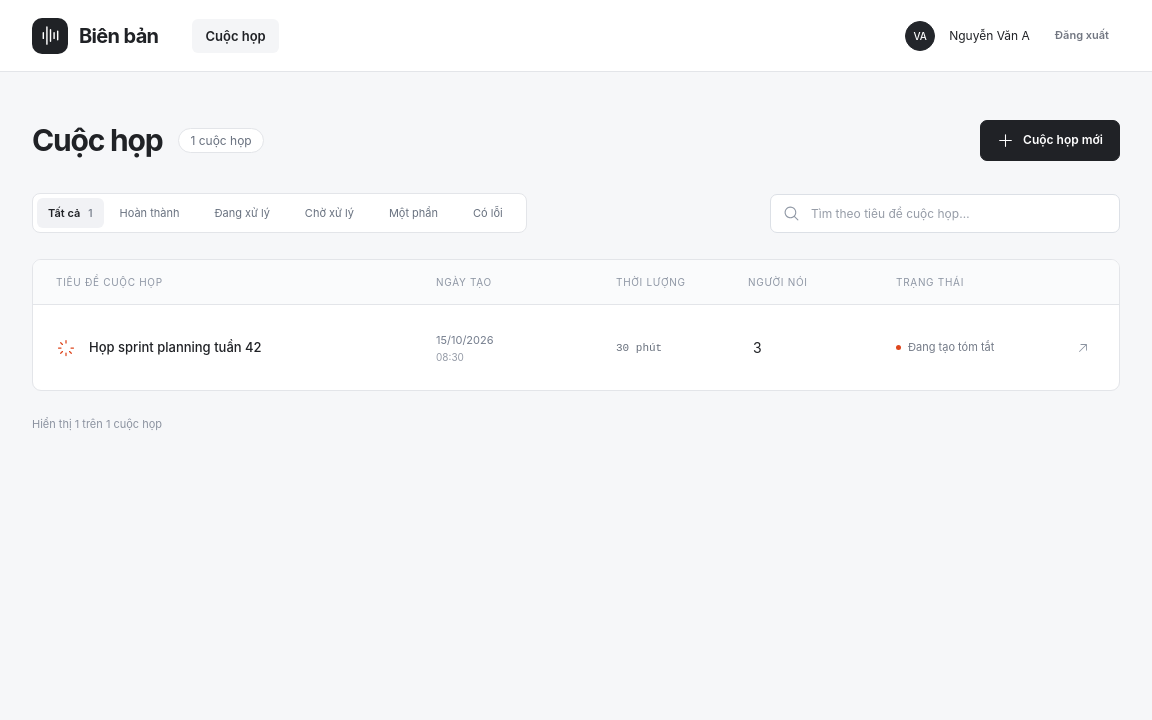
Test: FE-04 meeting list › filters by status from the API
The image size is (1152, 720).
Expected: the text "Họp sprint planning tuần 42" is shown, [89,336,262,359]
Click the button "Có lỗi". click: (492, 213)
box: [462,198,522,228]
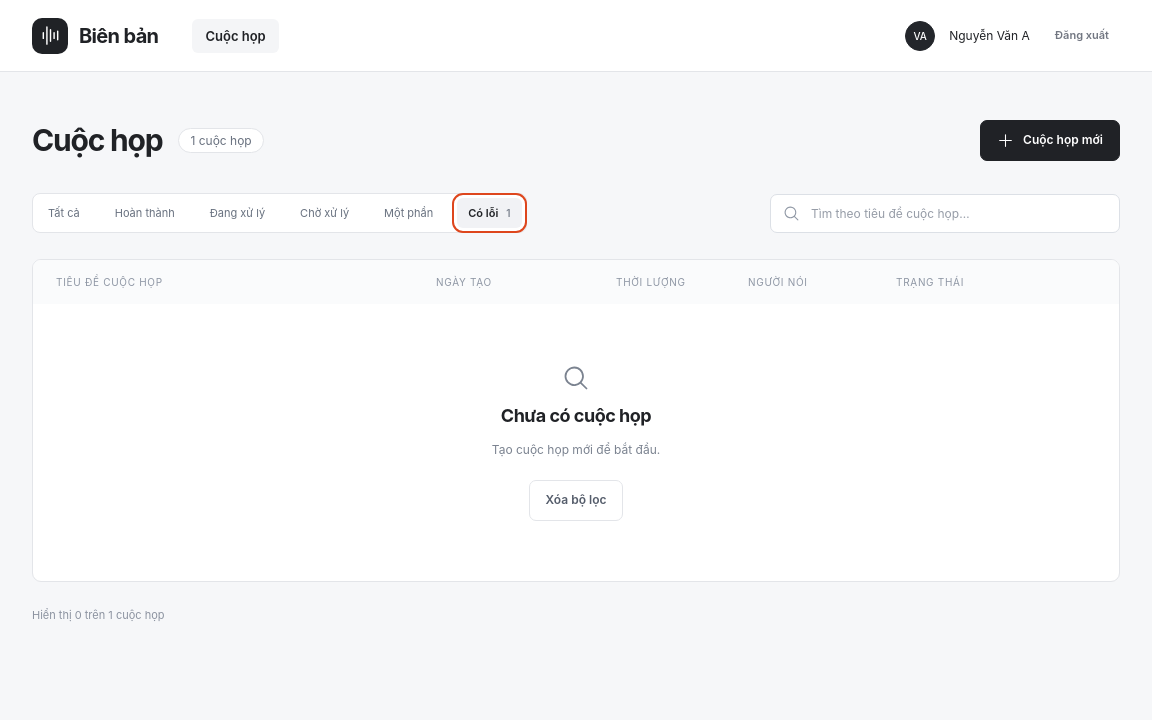
Expected: the heading "Chưa có cuộc họp" is shown, [501,402,651,429]
